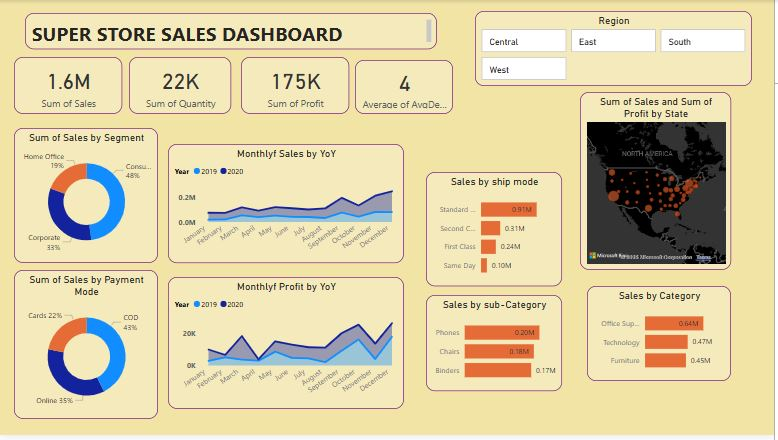

What the dashboard file says about the page in this screenshot:
{"tool":"powerbi","page":{"name":"Page 1","canvas":[1280,720],"ordinal":0},"visuals":[{"type":"clusteredBarChart","title":" Sales by Category","fields":{"Category":["SuperStore_Sales_Dataset.Category"],"Y":["Sum(SuperStore_Sales_Dataset.Sales)"]},"box":[970.7,473,238.1,157.1],"z":0},{"type":"clusteredBarChart","title":" Sales by sub-Category","fields":{"Category":["SuperStore_Sales_Dataset.Sub-Category","SuperStore_Sales_Dataset.Category"],"Y":["Sum(SuperStore_Sales_Dataset.Sales)"]},"box":[704.5,487.9,224.9,158.8],"z":1000},{"type":"clusteredBarChart","title":" Sales by ship mode","fields":{"Category":["SuperStore_Sales_Dataset.Ship Mode"],"Y":["Sum(SuperStore_Sales_Dataset.Sales)"]},"box":[704.5,284.4,224.9,188.5],"z":2000},{"type":"stackedAreaChart","title":"Monthlyf Sales by YoY","fields":{"Y":["Sum(SuperStore_Sales_Dataset.Sales)"],"Category":["SuperStore_Sales_Dataset.Order Date.Variation.Date Hierarchy.Month","SuperStore_Sales_Dataset.Order Date.Variation.Date Hierarchy.Day"],"Series":["SuperStore_Sales_Dataset.Order Date.Variation.Date Hierarchy.Year"]},"box":[277.8,238.1,390.3,196.8],"z":3000},{"type":"stackedAreaChart","title":"Monthlyf Profit by YoY","fields":{"Category":["SuperStore_Sales_Dataset.Order Date.Variation.Date Hierarchy.Month","SuperStore_Sales_Dataset.Order Date.Variation.Date Hierarchy.Day"],"Series":["SuperStore_Sales_Dataset.Order Date.Variation.Date Hierarchy.Year"],"Y":["Sum(SuperStore_Sales_Dataset.Profit)"]},"box":[277.8,458.1,390.3,218.3],"z":4000},{"type":"map","fields":{"Category":["SuperStore_Sales_Dataset.State"],"Size":["Sum(SuperStore_Sales_Dataset.Sales)"]},"box":[959.2,152.1,249.7,294.4],"z":5000},{"type":"donutChart","fields":{"Category":["SuperStore_Sales_Dataset.Segment"],"Y":["Sum(SuperStore_Sales_Dataset.Sales)"]},"box":[23.2,211.7,238.1,223.3],"z":6000},{"type":"donutChart","fields":{"Category":["SuperStore_Sales_Dataset.Payment Mode","SuperStore_Sales_Dataset.Segment"],"Y":["Sum(SuperStore_Sales_Dataset.Sales)"]},"box":[23.2,446.5,238.1,246.4],"z":7000},{"type":"advancedSlicerVisual","fields":{"Values":["SuperStore_Sales_Dataset.Region"]},"box":[785.5,18.2,458.1,124],"z":8000},{"type":"textbox","box":[41.3,21.5,681.3,59.5],"z":9000},{"type":"card","title":"SALES","fields":{"Values":["Sum(SuperStore_Sales_Dataset.Sales)"]},"box":[23.2,94.3,178.6,94.3],"z":10000},{"type":"card","title":"SALES","fields":{"Values":["Sum(SuperStore_Sales_Dataset.Quantity)"]},"box":[213.3,94.3,168.7,94.3],"z":11000},{"type":"card","title":"SALES","fields":{"Values":["Sum(SuperStore_Sales_Dataset.Profit)"]},"box":[398.6,94.3,178.6,94.3],"z":12000},{"type":"card","title":"SALES","fields":{"Values":["Avg(SuperStore_Sales_Dataset.AvgDelivery)"]},"box":[587.1,99.2,162.1,89.3],"z":13000}]}

Visuals, with their boxes in screenshot pixels (x1, y1, x2, y2), scaled from the page's 1280x720 canvas onto the 778x440 screenshot:
" Sales by Category" clusteredBarChart: [590,289,735,385]
" Sales by sub-Category" clusteredBarChart: [428,298,565,395]
" Sales by ship mode" clusteredBarChart: [428,174,565,289]
"Monthlyf Sales by YoY" stackedAreaChart: [169,146,406,266]
"Monthlyf Profit by YoY" stackedAreaChart: [169,280,406,413]
map - SuperStore_Sales_Dataset.State x Sum(SuperStore_Sales_Dataset.Sales): [583,93,735,273]
donutChart - SuperStore_Sales_Dataset.Segment x Sum(SuperStore_Sales_Dataset.Sales): [14,129,159,266]
donutChart - SuperStore_Sales_Dataset.Payment Mode x SuperStore_Sales_Dataset.Segment: [14,273,159,423]
advancedSlicerVisual - SuperStore_Sales_Dataset.Region: [477,11,756,87]
textbox: [25,13,439,50]
"SALES" card: [14,58,123,115]
"SALES" card: [130,58,232,115]
"SALES" card: [242,58,351,115]
"SALES" card: [357,61,455,115]
